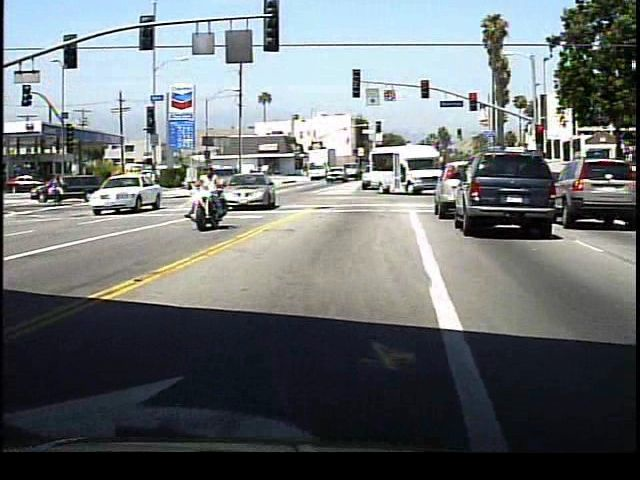person: (195, 166, 234, 228)
